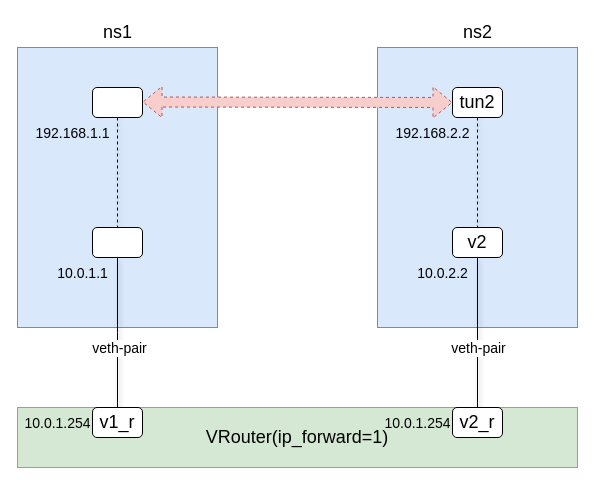
The diagram is 595 pixels wide and 485 high, and some of its shapes have lost their labels. Each missing label, with the centre of its shape:
tun1: the point at 117,102
v1: the point at 117,242
